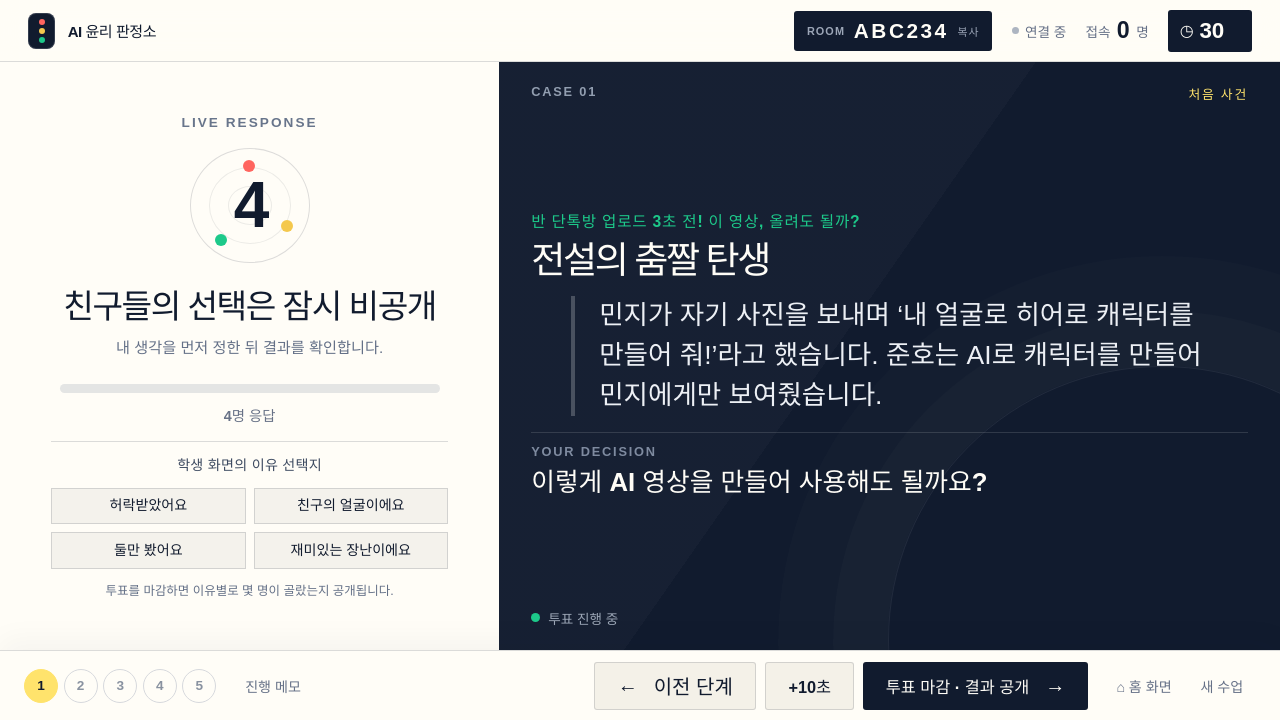
Test: teacher reason breakdown › lists every reason option while voting and splits them by verdict after closing
Expected: the text "학생 화면의 이유 선택지" is shown, [177,454,322,476]
Expected: the list item "허락받았어요" is shown, [51,488,246,524]
Click the button "투표 마감 · 결과 공개 →": coordinates (976, 686) [863,662,1088,710]
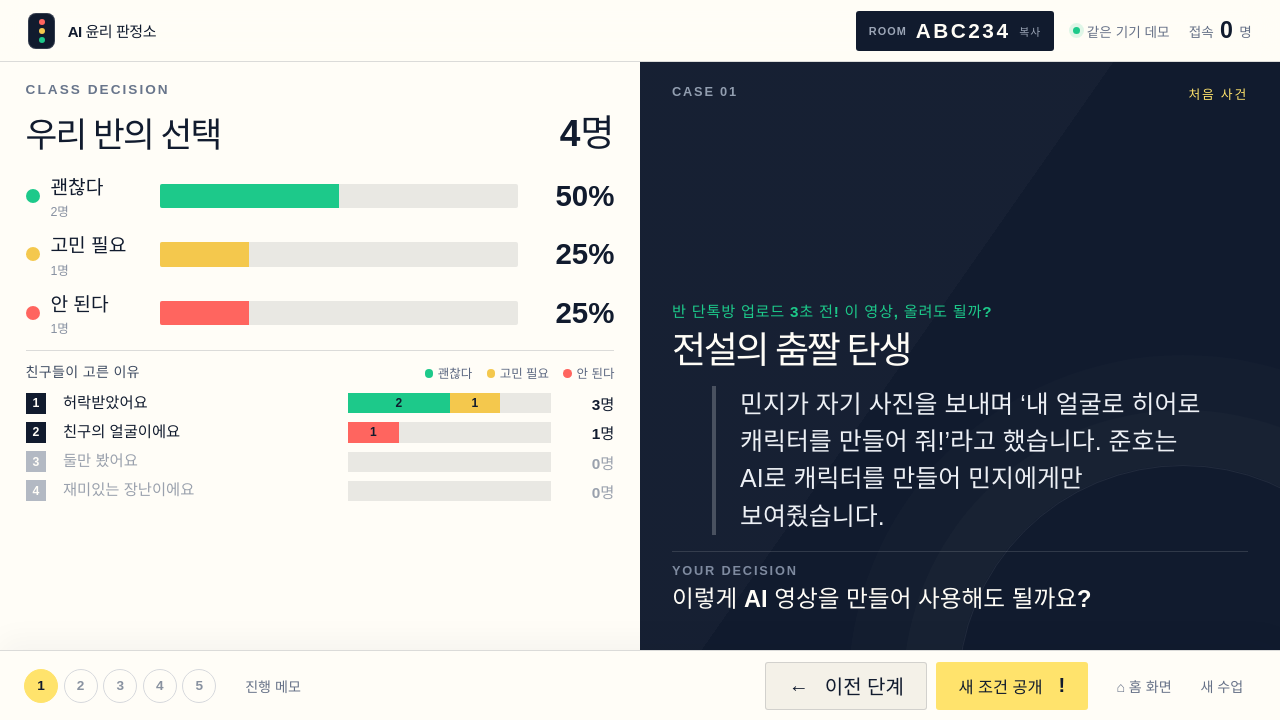
Expected: the text "친구들이 고른 이유" is shown, [26,362,140,384]
Expected: the text "3명" is shown, [592,396,614,413]
Expected: the picture named "괜찮다 2명, 고민 필요 1명, 안 된다 0명" is shown, [348,393,551,413]
